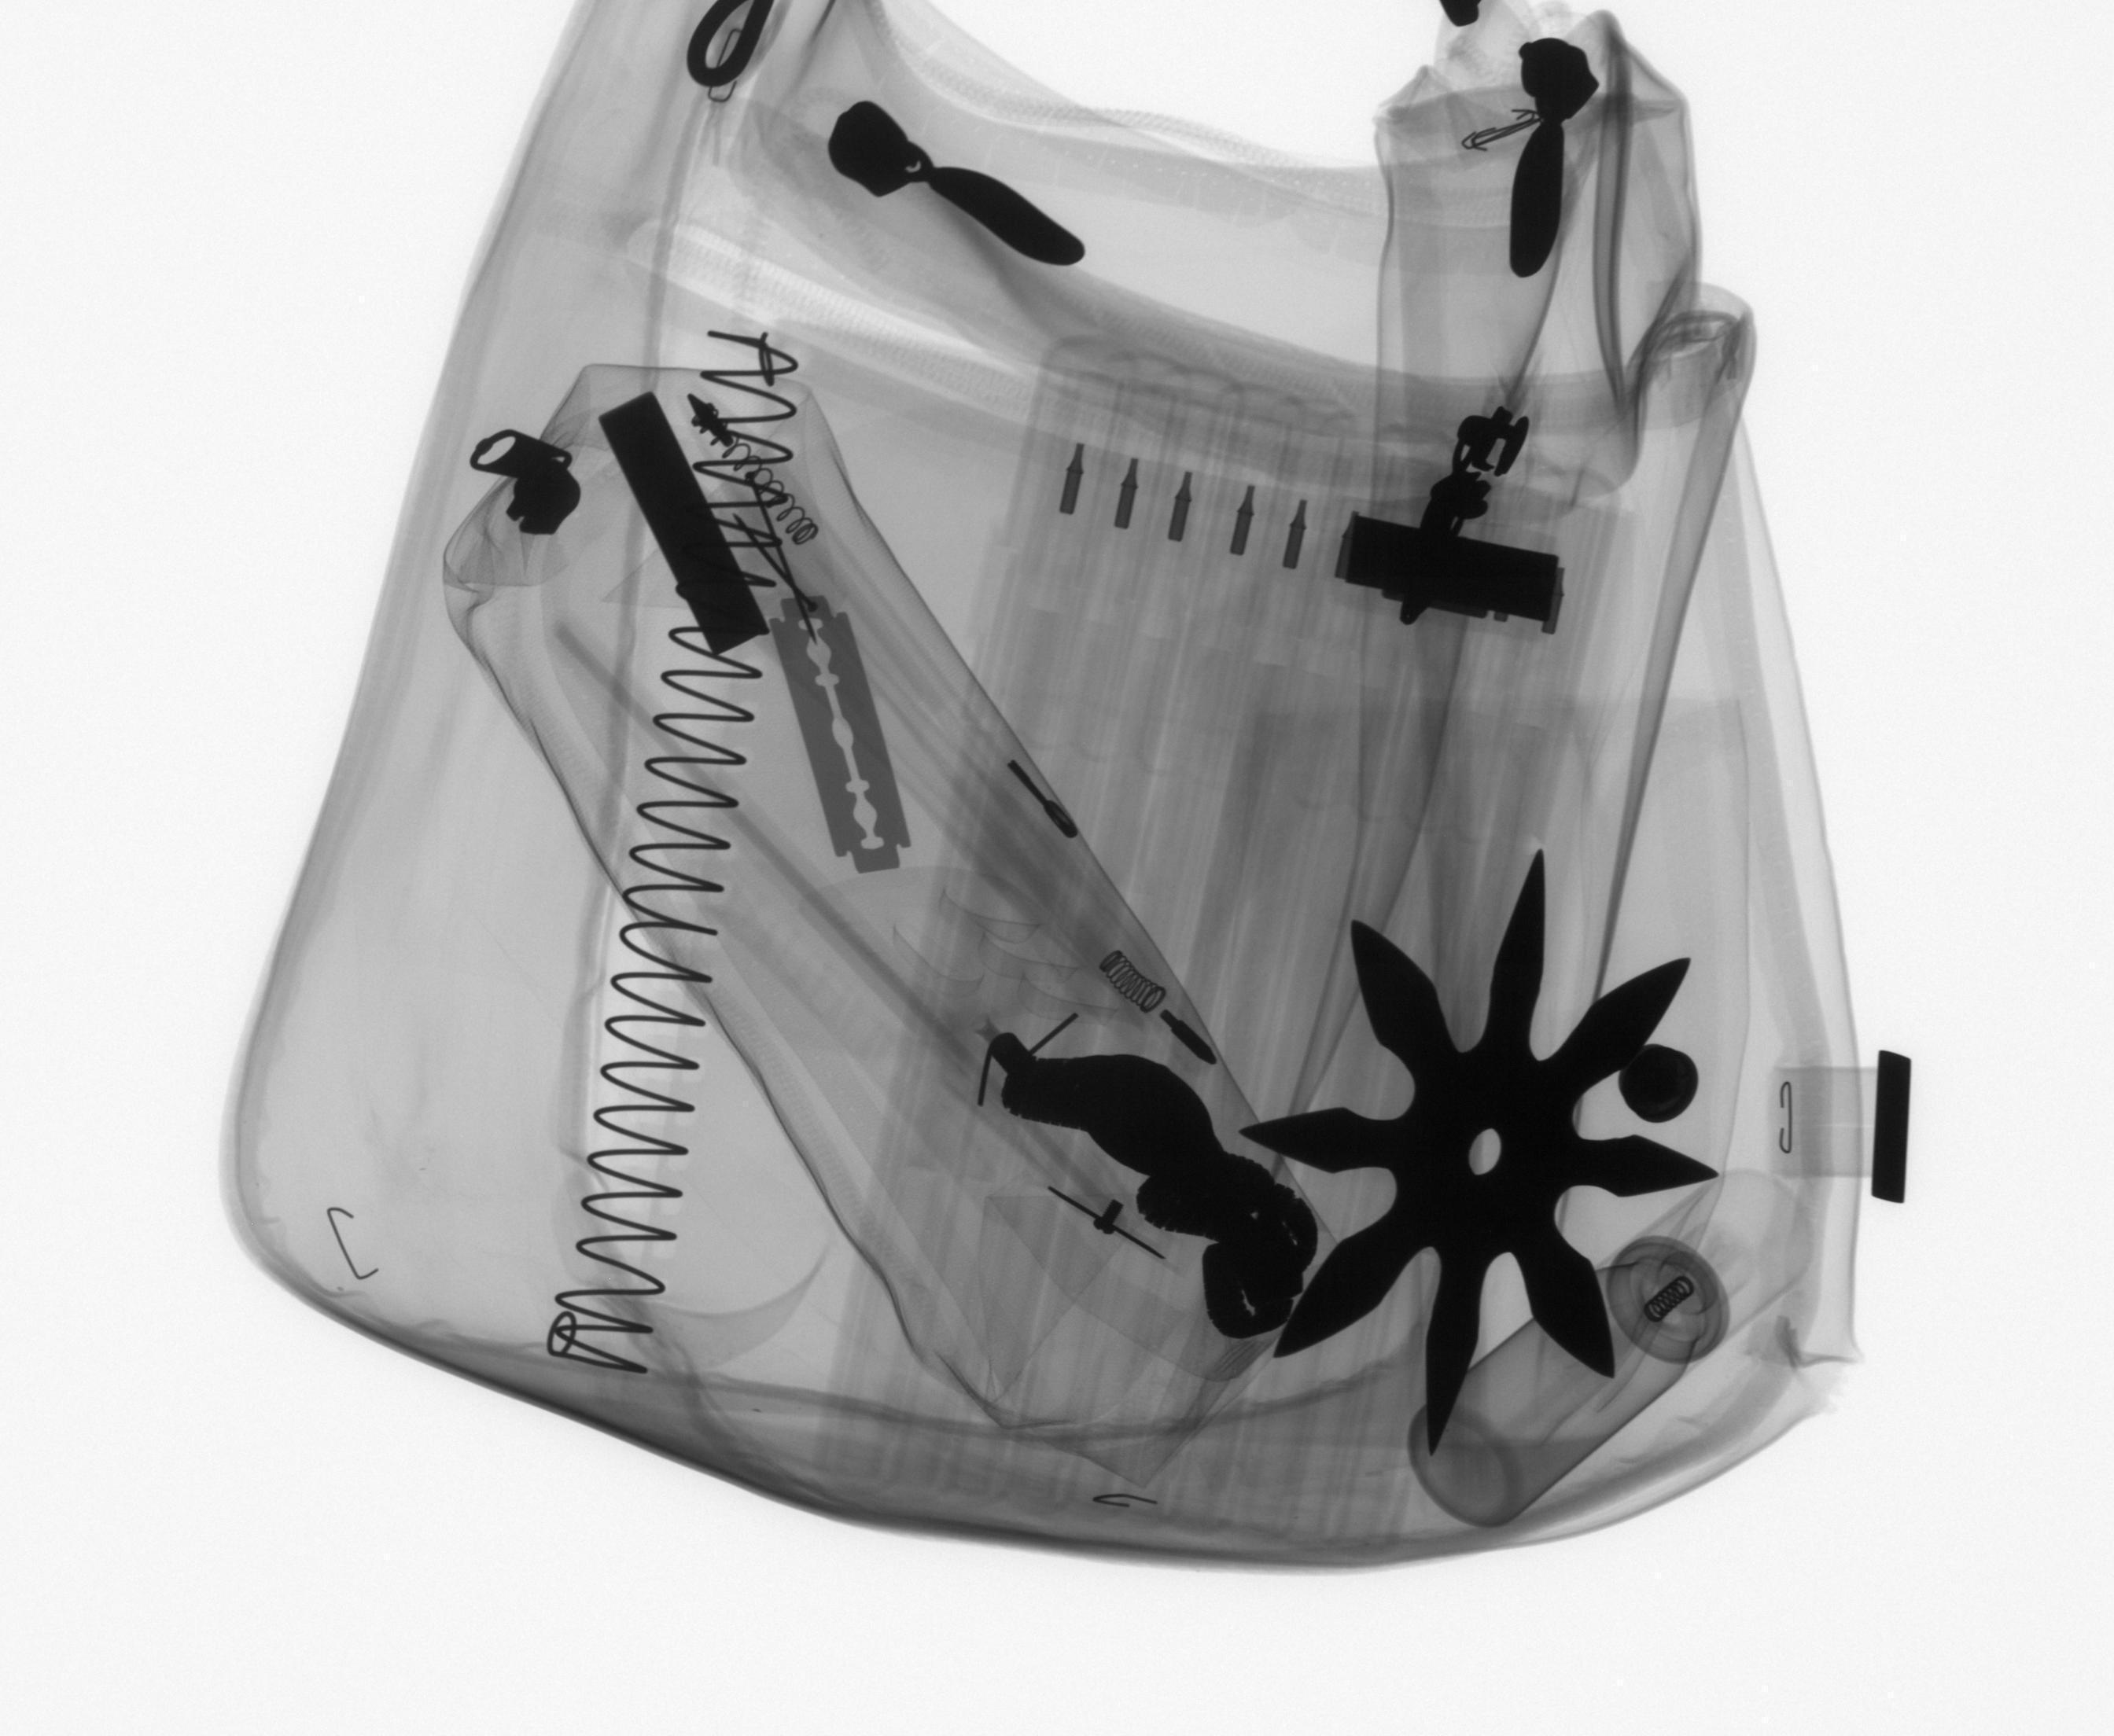RazorBlade: (767, 592, 920, 881)
Shuriken: (1233, 843, 1735, 1466)
